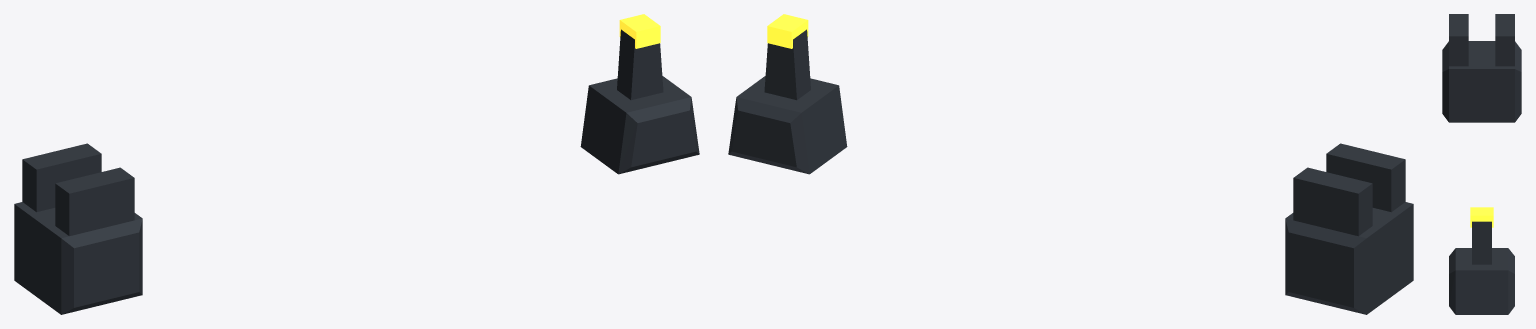
File: sight_iron.glb
3 views of the same model, side by side, from view 1: azimuth 30°, elevation 25°; view 2: azimuth 150°, elevation 25°; view 3: azimuth 270°, elevation 25° (orthographic). The views are drawn at different scales.
Visible parts, largest first — view 1: sight_iron; view 2: sight_iron; view 3: sight_iron.
Part boxes in pixels (left/top/right/bottom): sight_iron: left=14, top=14, right=699, bottom=314; sight_iron: left=728, top=14, right=1413, bottom=314; sight_iron: left=1442, top=14, right=1521, bottom=314.
Bounding box in the file's own units: 0.158 × 0.03 × 0.024.
